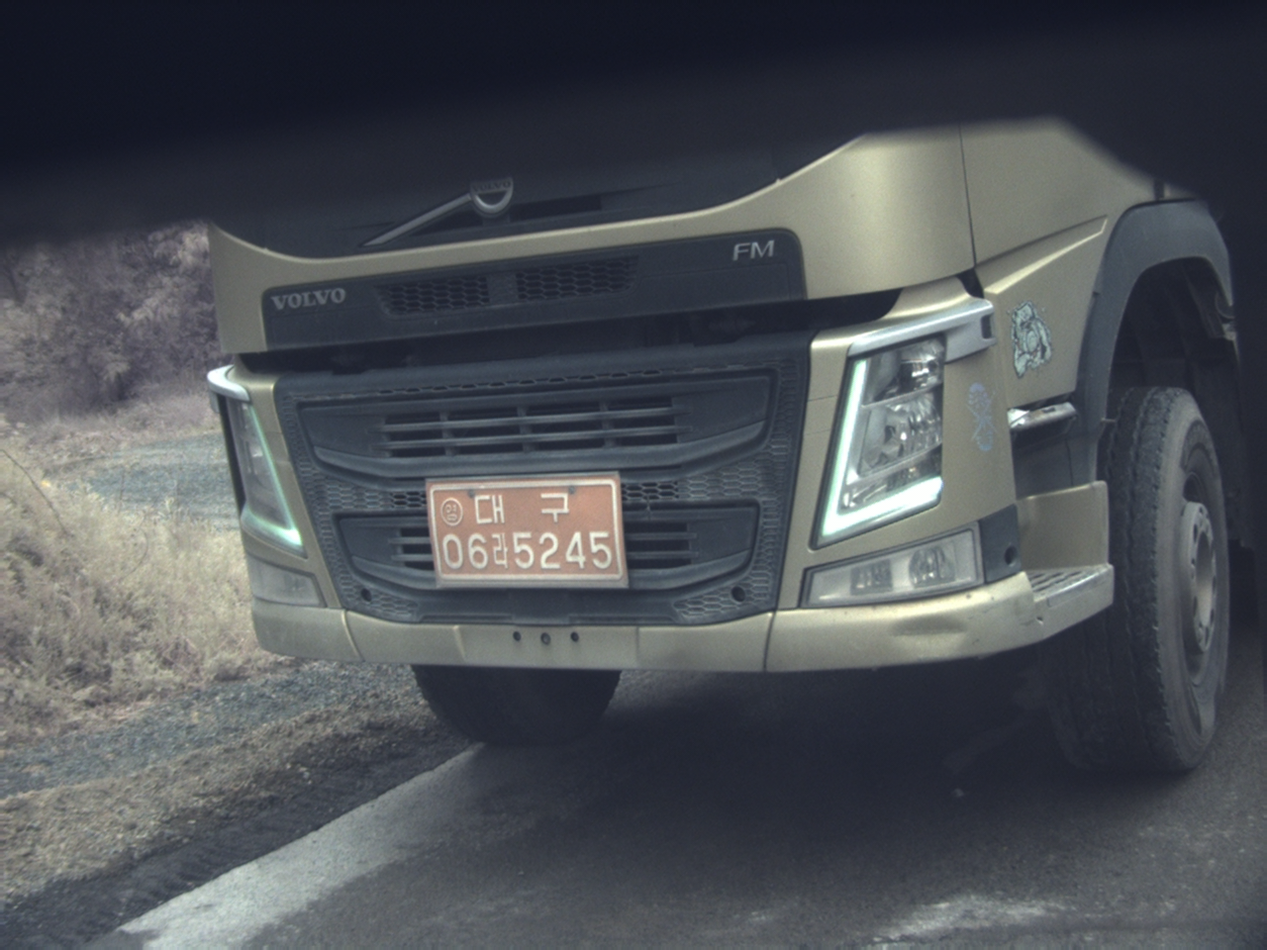license_plate: (428, 475, 626, 586)
truck: (210, 121, 1250, 768)
